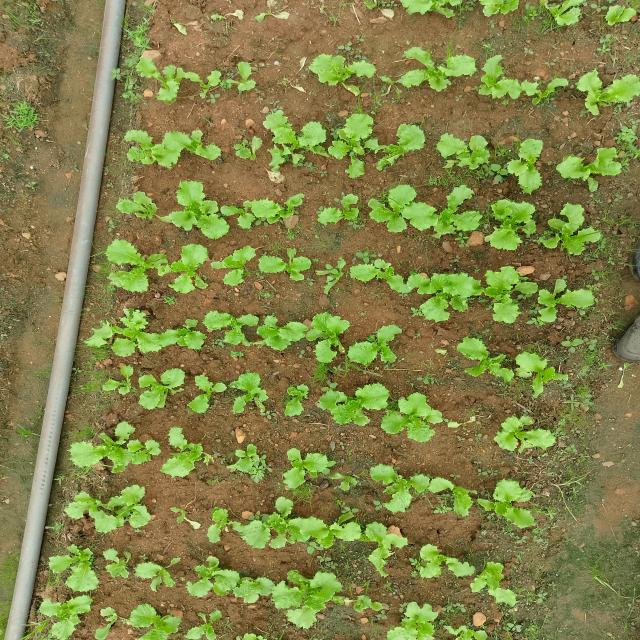Lettuce: (246, 108, 330, 171), (314, 108, 382, 179), (165, 176, 234, 242), (273, 566, 346, 628), (293, 54, 389, 100), (397, 45, 473, 102), (380, 388, 449, 448), (368, 462, 443, 514), (368, 180, 435, 238), (410, 268, 480, 322), (322, 379, 391, 430), (123, 59, 201, 104), (533, 275, 602, 325), (480, 62, 562, 104), (479, 476, 536, 536), (479, 262, 532, 326), (97, 480, 159, 534), (241, 190, 309, 239), (544, 200, 600, 259), (154, 125, 224, 171), (92, 421, 150, 476), (482, 195, 536, 253), (305, 307, 353, 367), (159, 426, 210, 482), (502, 134, 549, 194), (570, 70, 637, 112), (374, 121, 428, 173), (350, 321, 406, 371), (280, 445, 338, 493), (45, 542, 103, 590), (185, 555, 246, 600), (112, 305, 162, 357), (359, 520, 412, 568), (496, 413, 555, 455), (203, 308, 264, 348), (470, 558, 518, 608), (137, 366, 189, 412), (342, 260, 415, 292), (168, 243, 212, 296), (524, 0, 592, 34), (388, 599, 444, 640), (127, 600, 184, 640), (227, 368, 272, 418), (258, 246, 314, 286), (61, 487, 115, 528), (218, 245, 264, 292), (512, 351, 560, 396), (45, 594, 94, 637), (407, 542, 457, 582), (134, 554, 177, 592), (395, 0, 472, 21), (114, 131, 163, 163), (190, 371, 224, 416), (117, 188, 160, 223), (103, 540, 131, 592), (603, 0, 635, 30), (95, 603, 120, 640), (209, 499, 228, 546), (477, 0, 514, 20)
